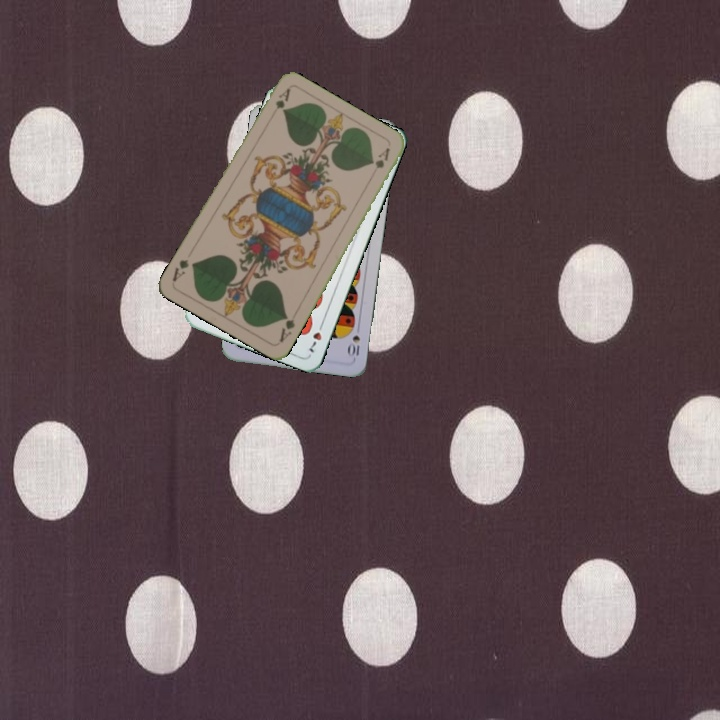GA: (266, 85, 293, 122), (275, 311, 297, 345)
H7: (304, 317, 327, 355)
S10: (345, 321, 363, 361)
